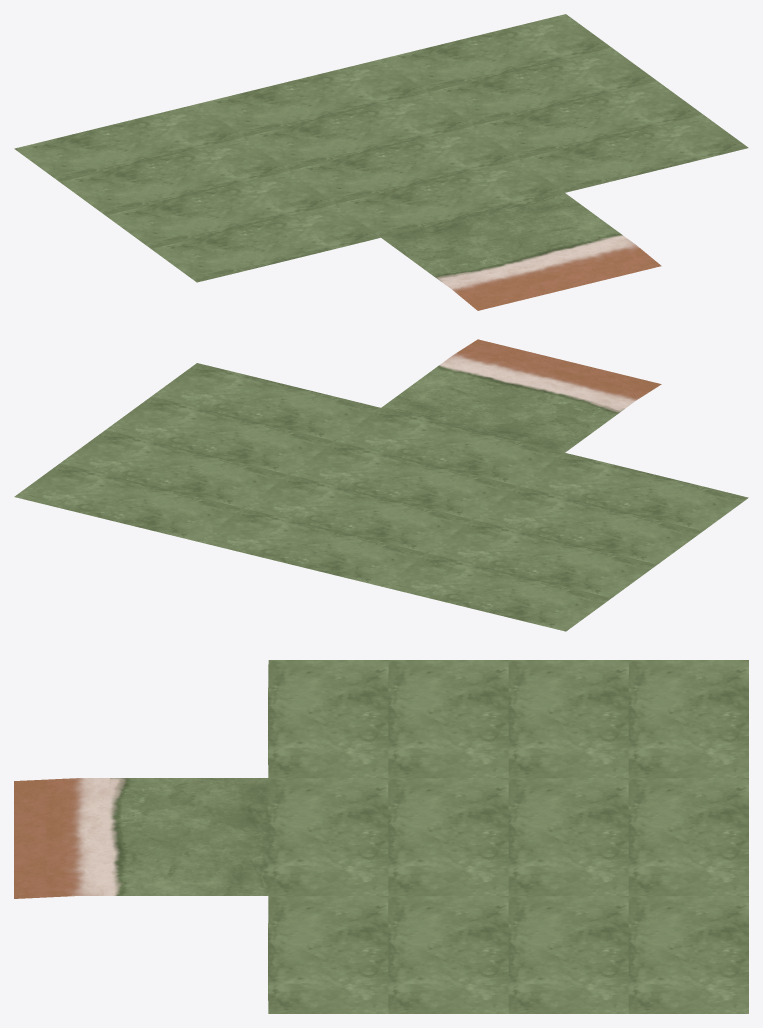
Rendered from Terrain2.fbx.
The picture shows the model from 3 angles, top to bottom: view 1: azimuth 30°, elevation 25°; view 2: azimuth 150°, elevation 25°; view 3: azimuth 270°, elevation 25°; orthographic projection. The views are drawn at different scales.
Parts seen in each view (by area): view 1: Terrain2_2, Terrain2; view 2: Terrain2_2, Terrain2; view 3: Terrain2_2, Terrain2.
Part boxes in pixels (left/top/right/bottom): Terrain2_2: left=14, top=14, right=748, bottom=282; Terrain2: left=253, top=117, right=661, bottom=310; Terrain2_2: left=14, top=363, right=748, bottom=631; Terrain2: left=255, top=339, right=661, bottom=528; Terrain2_2: left=268, top=660, right=748, bottom=1013; Terrain2: left=14, top=754, right=508, bottom=918.
Bounding box in the file's own units: 360 × 1.52 × 316.
Materials: 1 (1 with a texture image).
